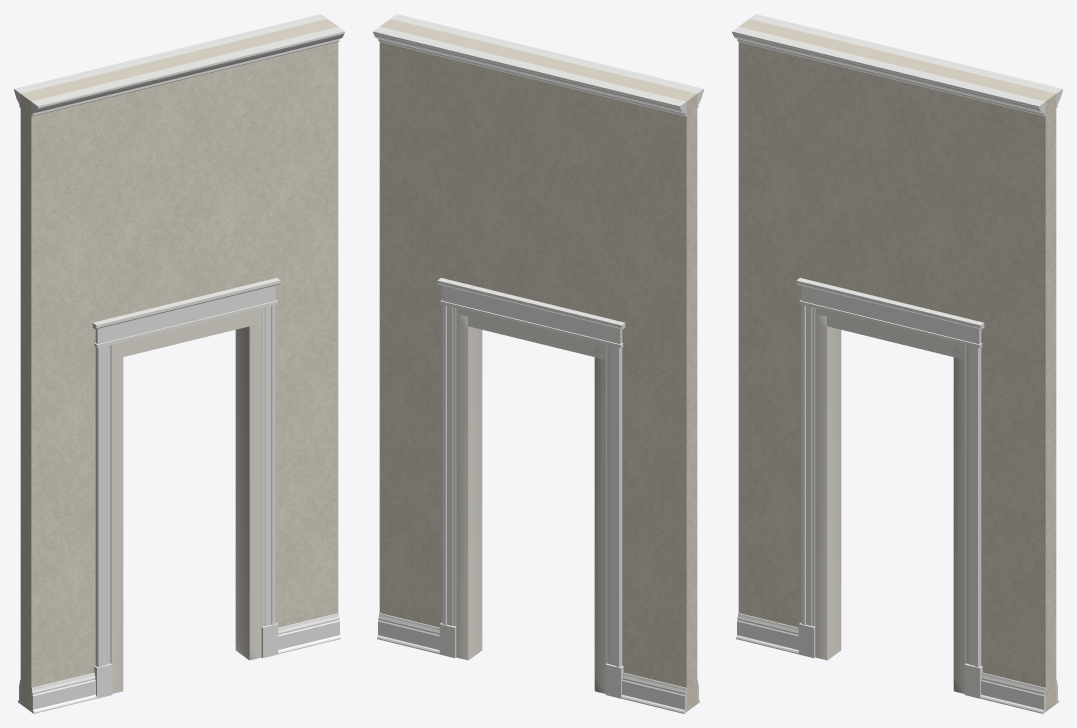
File: interior_wall_doorway.glb
3 views of the same model, side by side, from view 1: azimuth 30°, elevation 25°; view 2: azimuth 150°, elevation 25°; view 3: azimuth 330°, elevation 25° (orthographic).
Parts seen in each view (by area): view 1: interior_wall_doorway_plaster, molduras, interior_wall_doorway_frame; view 2: interior_wall_doorway_plaster, molduras, interior_wall_doorway_frame; view 3: interior_wall_doorway_plaster, molduras, interior_wall_doorway_frame.
Boxes of the visible parts, left/top/right/bottom form: interior_wall_doorway_plaster: left=20, top=19, right=338, bottom=711; molduras: left=14, top=14, right=344, bottom=713; interior_wall_doorway_frame: left=110, top=308, right=261, bottom=693; interior_wall_doorway_plaster: left=379, top=19, right=697, bottom=711; molduras: left=373, top=14, right=703, bottom=713; interior_wall_doorway_frame: left=456, top=308, right=607, bottom=693; interior_wall_doorway_plaster: left=738, top=19, right=1056, bottom=711; molduras: left=732, top=14, right=1062, bottom=713; interior_wall_doorway_frame: left=815, top=308, right=966, bottom=693.
Bounding box in the file's own units: 2 × 3.8 × 0.27.
3 materials, 1 textured.
